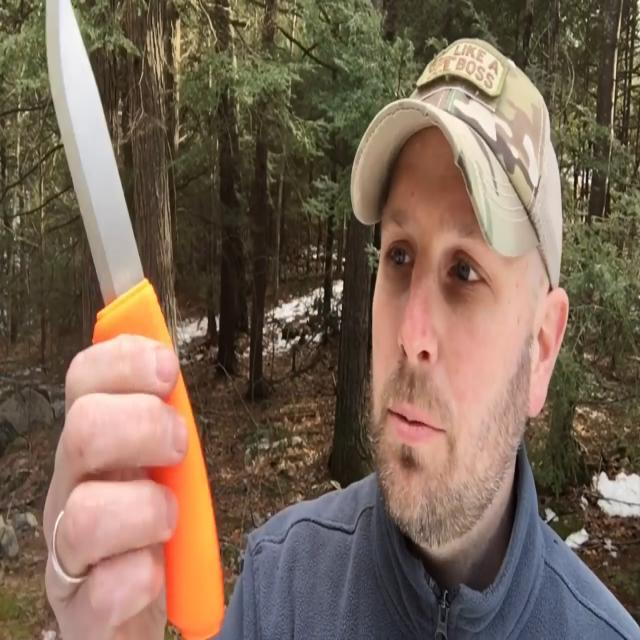knife: (37, 1, 236, 638)
